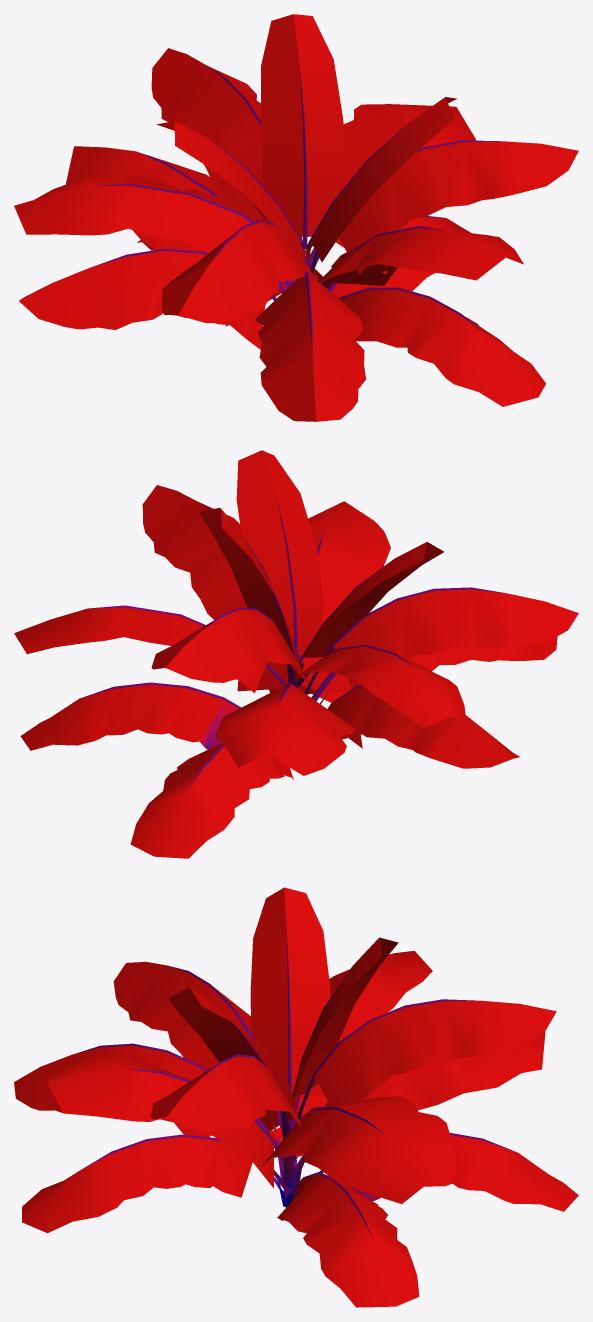
File: BananaTree_01.FBX
3 views of the same model, one above another, from view 1: azimuth 30°, elevation 25°; view 2: azimuth 150°, elevation 25°; view 3: azimuth 270°, elevation 25° (orthographic). The views are drawn at different scales.
Visible parts, largest first — view 1: bananatree_01; view 2: bananatree_01; view 3: bananatree_01.
Part boxes in pixels (x1,y1,x2,y2): bananatree_01: [14, 14, 578, 421]; bananatree_01: [14, 450, 578, 858]; bananatree_01: [14, 887, 578, 1307].
Bounding box in the file's own units: 1.78 × 1.02 × 1.82.
